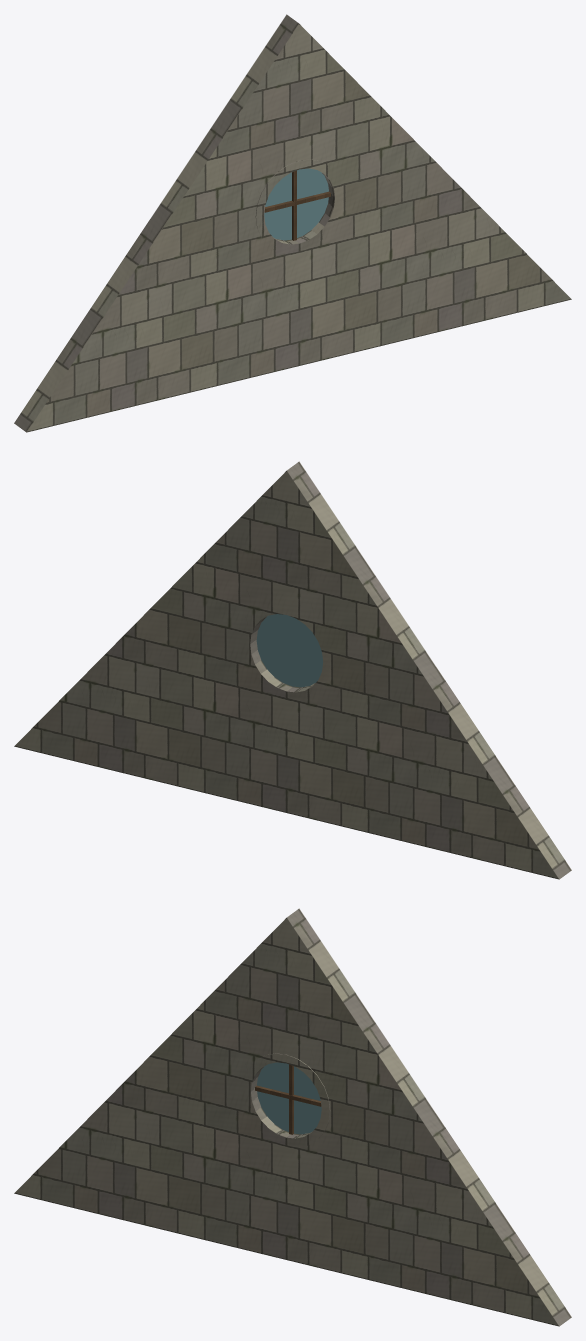
The model's file is Furn_Roof_GableEnd.fbx.
The picture shows the model from 3 angles, top to bottom: view 1: azimuth 30°, elevation 25°; view 2: azimuth 150°, elevation 25°; view 3: azimuth 330°, elevation 25°; orthographic projection.
Visible parts, largest first — view 1: Furn_Roof_GableEnd_Mesh; view 2: Furn_Roof_GableEnd_Mesh; view 3: Furn_Roof_GableEnd_Mesh.
Part boxes in pixels (left/top/right/bottom): Furn_Roof_GableEnd_Mesh: left=14, top=14, right=571, bottom=432; Furn_Roof_GableEnd_Mesh: left=14, top=461, right=571, bottom=879; Furn_Roof_GableEnd_Mesh: left=14, top=908, right=571, bottom=1326.
Bounding box in the file's own units: 10 × 6 × 0.412.
